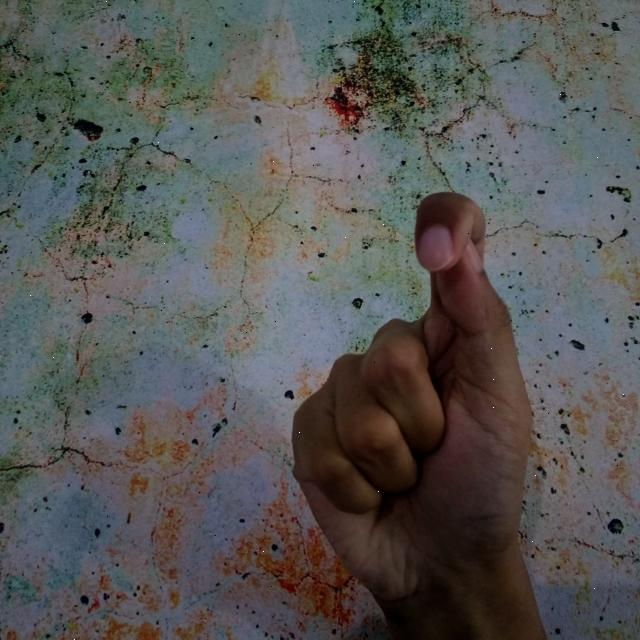T: (283, 185, 553, 640)
